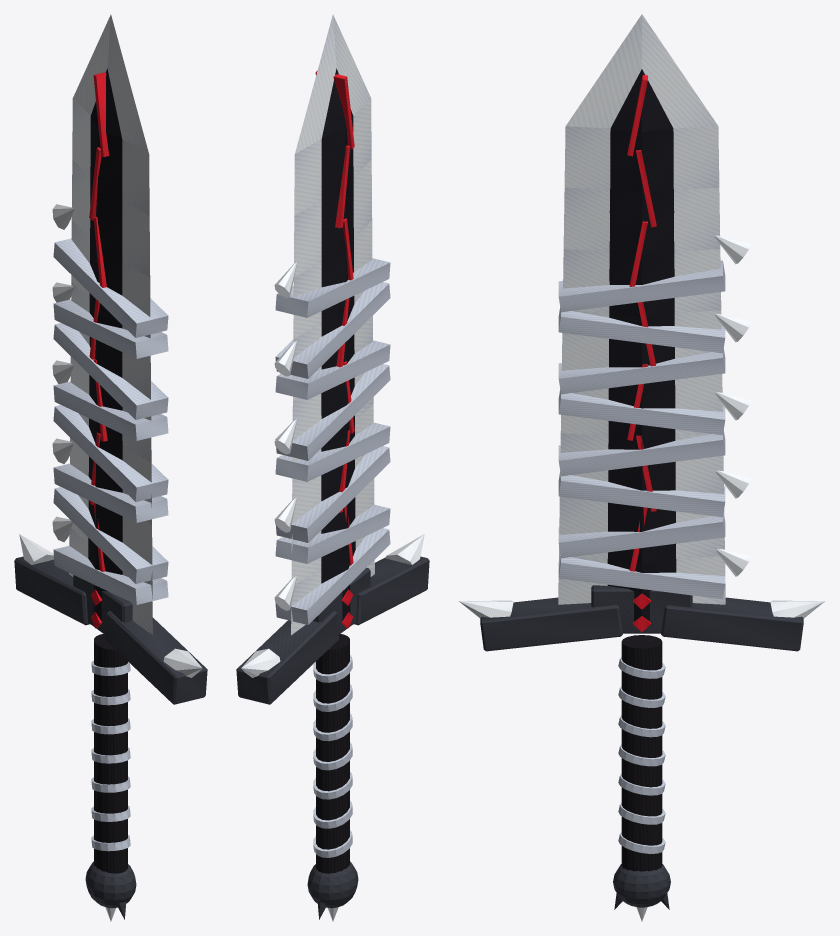
File: Shroud.obj
The picture shows the model from 3 angles, left to right: view 1: azimuth 30°, elevation 25°; view 2: azimuth 150°, elevation 25°; view 3: azimuth 270°, elevation 25°; orthographic projection.
Parts seen in each view (by area): view 1: Shroud; view 2: Shroud; view 3: Shroud.
Part boxes in pixels (x1=…): Shroud: x1=14, y1=14, x2=207, y2=921; Shroud: x1=236, y1=14, x2=429, y2=921; Shroud: x1=459, y1=14, x2=824, y2=921.
Size of the model in its own units: 0.4401 by 9.3 by 3.41.
Materials: 1 (1 with a texture image).
